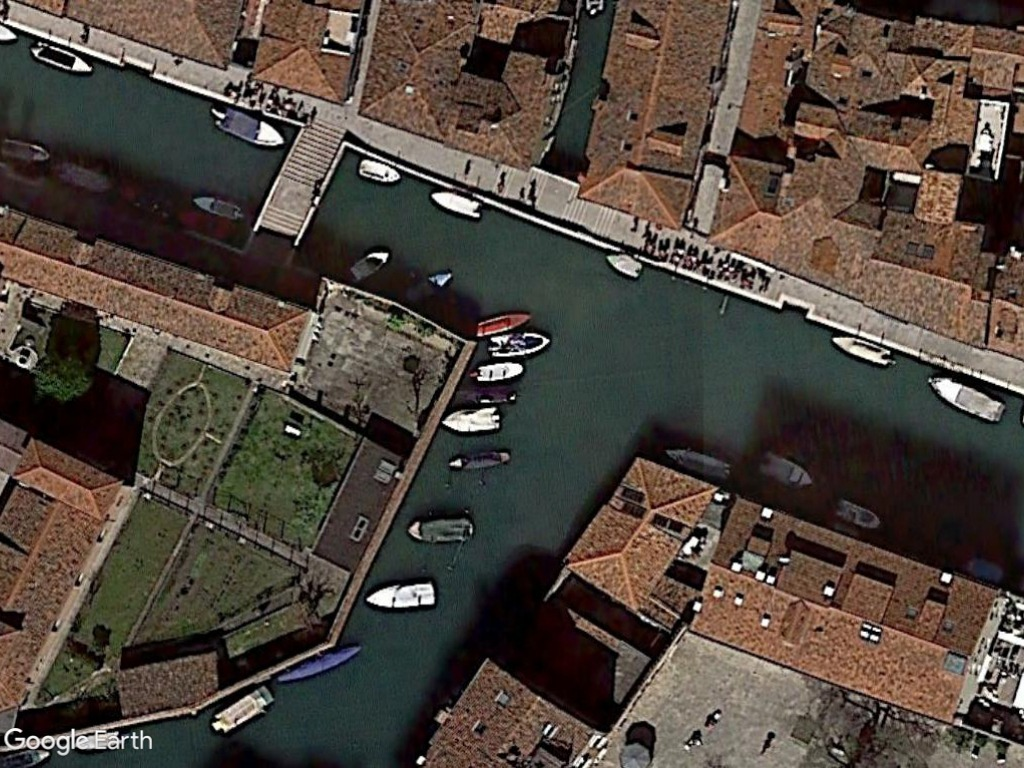boat: (921, 370, 1010, 426), (208, 102, 289, 152), (362, 575, 444, 616), (26, 38, 97, 80), (827, 331, 895, 372), (756, 447, 815, 492), (402, 514, 476, 547), (438, 404, 505, 439), (341, 245, 395, 285), (427, 188, 485, 224), (484, 331, 555, 360), (831, 496, 883, 534), (0, 135, 55, 167), (354, 156, 406, 189), (190, 192, 245, 223), (471, 358, 527, 387)
